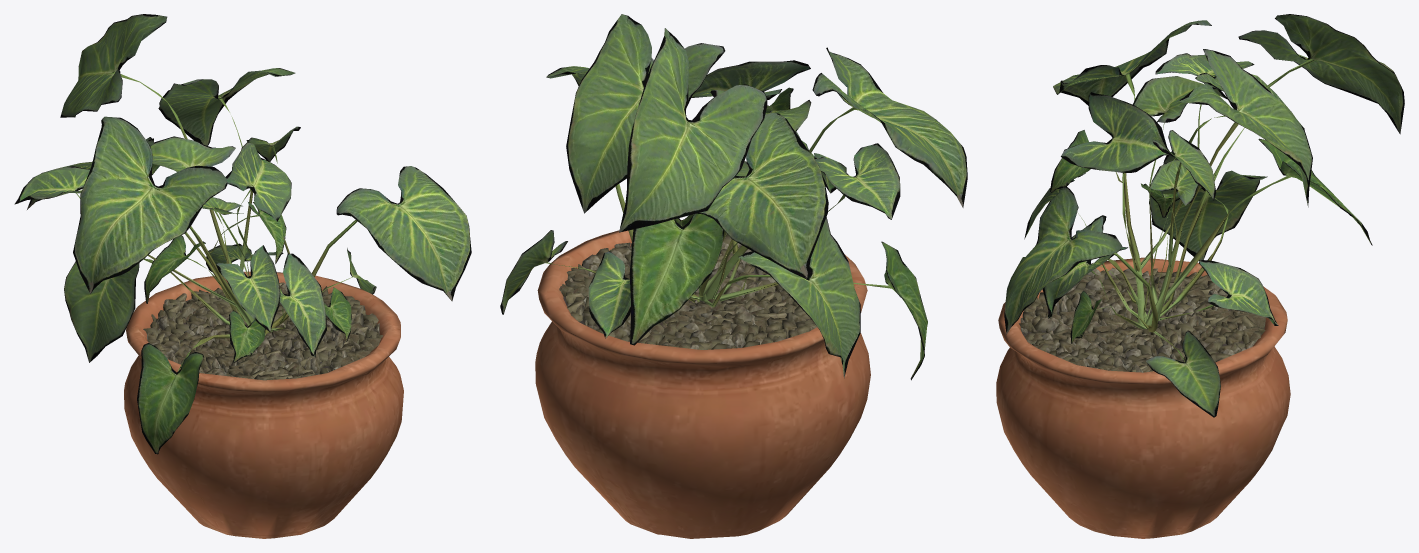
Rendered from potted_plant_02.glb.
3 views of the same model, side by side, from view 1: azimuth 30°, elevation 25°; view 2: azimuth 150°, elevation 25°; view 3: azimuth 270°, elevation 25° (orthographic). The views are drawn at different scales.
Visible parts, largest first — view 1: potted_plant_02_leaves, potted_plant_02_pot; view 2: potted_plant_02_leaves, potted_plant_02_pot; view 3: potted_plant_02_pot, potted_plant_02_leaves.
Boxes of the visible parts, bbox=[...] form: potted_plant_02_leaves: bbox=[14, 14, 471, 454]; potted_plant_02_pot: bbox=[124, 271, 403, 538]; potted_plant_02_leaves: bbox=[500, 14, 967, 380]; potted_plant_02_pot: bbox=[535, 220, 870, 538]; potted_plant_02_pot: bbox=[996, 257, 1290, 538]; potted_plant_02_leaves: bbox=[1004, 14, 1404, 417].
Size of the model in its own units: 0.7009 by 0.8401 by 0.6561.
Materials: 2 (2 with a texture image).
